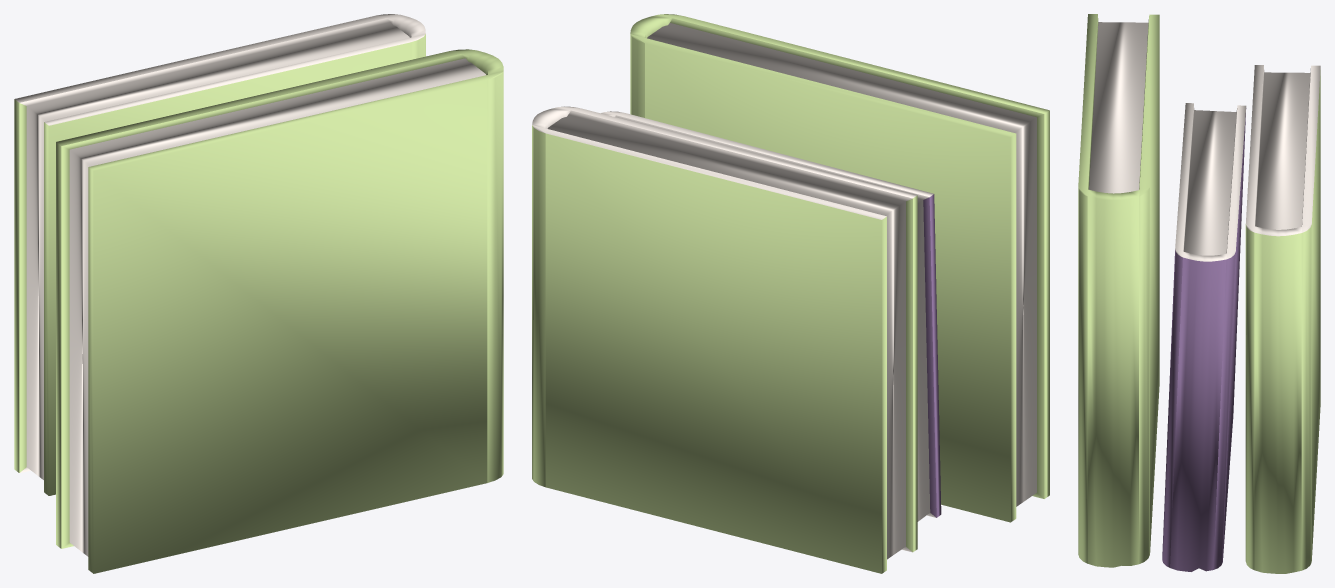
Rendered from books2.fbx.
3 views of the same model, side by side, from view 1: azimuth 30°, elevation 25°; view 2: azimuth 150°, elevation 25°; view 3: azimuth 270°, elevation 25° (orthographic). The views are drawn at different scales.
Parts seen in each view (by area): view 1: Books; view 2: Books; view 3: Books.
Part boxes in pixels (box(x1,y1,x2,y2)): Books: box(14, 14, 503, 573); Books: box(532, 14, 1049, 573); Books: box(1078, 14, 1320, 573).
Bounding box in the file's own units: 143 × 129 × 76.37.
